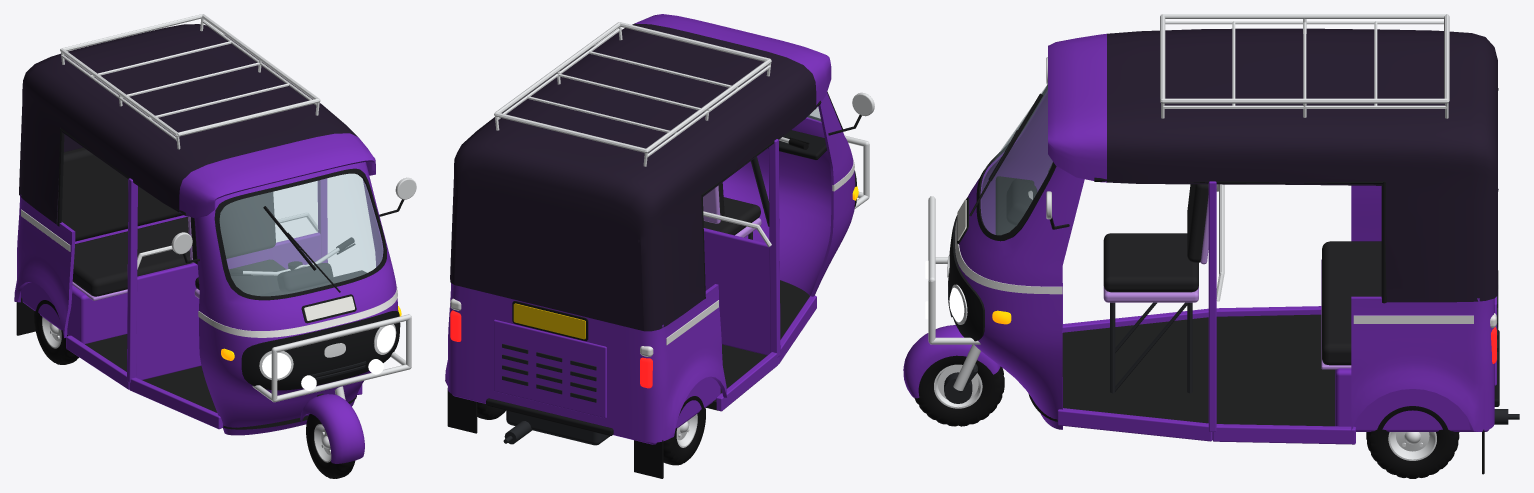
The model's file is bajaj_violet.glb.
3 renders of one model, left to right at view 1: azimuth 30°, elevation 25°; view 2: azimuth 150°, elevation 25°; view 3: azimuth 270°, elevation 25°, orthographic. The views are drawn at different scales.
Visible parts, largest first — view 1: Body, Steering, Wheel_F, Wheel_RL, Plate_Front; view 2: Body, Wheel_RL, Plate_Rear, Steering; view 3: Body, Wheel_RR, Wheel_F, Steering.
Boxes of the visible parts, x1=… form: Body: x1=14, y1=14, x2=416, y2=435; Steering: x1=229, y1=237, x2=364, y2=463; Wheel_F: x1=306, y1=414, x2=355, y2=478; Wheel_RL: x1=34, y1=300, x2=78, y2=364; Plate_Front: x1=304, y1=296, x2=354, y2=320; Body: x1=445, y1=14, x2=874, y2=478; Wheel_RL: x1=663, y1=396, x2=705, y2=465; Plate_Rear: x1=513, y1=303, x2=585, y2=339; Steering: x1=750, y1=137, x2=809, y2=226; Body: x1=925, y1=14, x2=1519, y2=474; Wheel_RR: x1=1366, y1=406, x2=1459, y2=478; Wheel_F: x1=914, y1=355, x2=1004, y2=426; Steering: x1=903, y1=163, x2=1052, y2=403.
Bounding box in the file's own units: 1.52 × 1.79 × 2.71.
